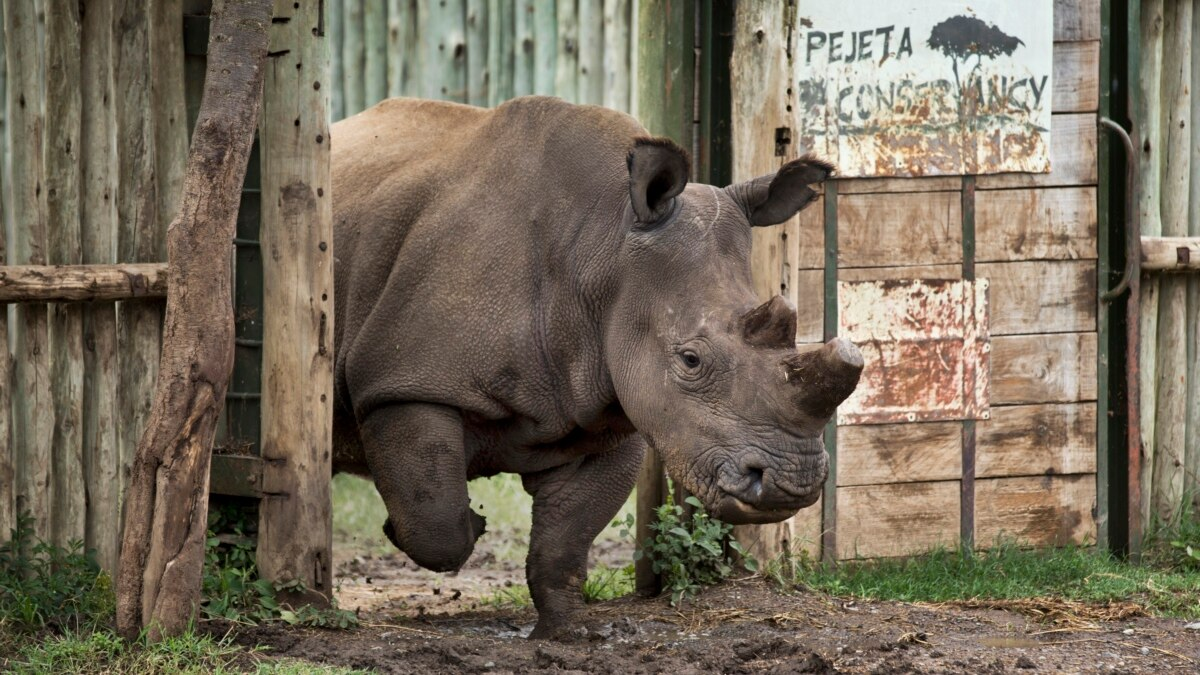Rhinoceros: (328, 88, 869, 649)
